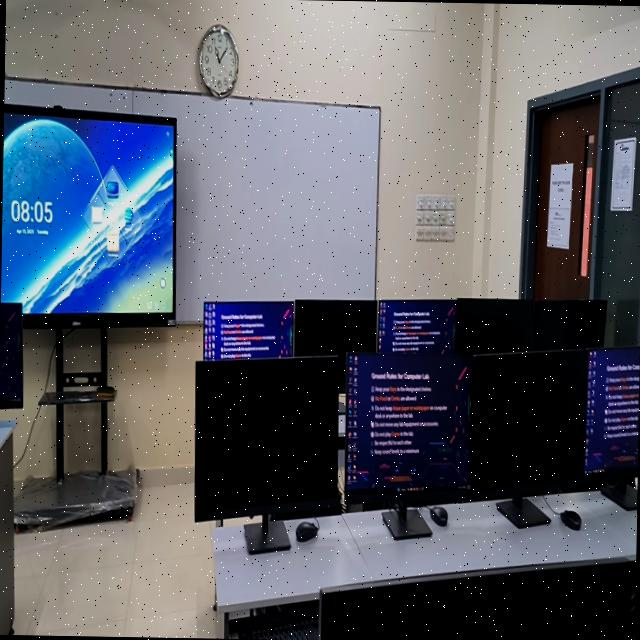Digital board: (0, 101, 178, 526)
Keyboard: (236, 618, 317, 640)
Monitor: (194, 357, 339, 553), (320, 563, 630, 640), (344, 353, 472, 539), (470, 349, 588, 526), (584, 347, 640, 509), (294, 300, 376, 386), (203, 301, 293, 360), (454, 298, 533, 353), (378, 300, 456, 354), (534, 300, 606, 349), (0, 302, 22, 408)
Mouse: (295, 521, 318, 542), (560, 510, 581, 529), (429, 506, 447, 526)
